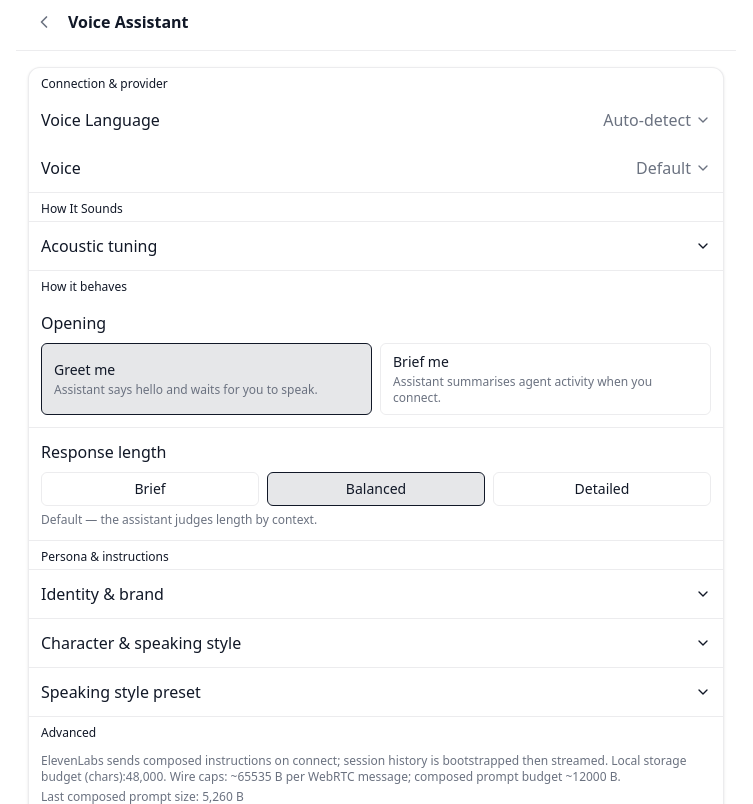
Test case: SettingsPage › shows dynamic voices in picker when fetchVoices returns a list
Click the button "Voice Default". click: (61, 168)
box: [29, 144, 723, 192]
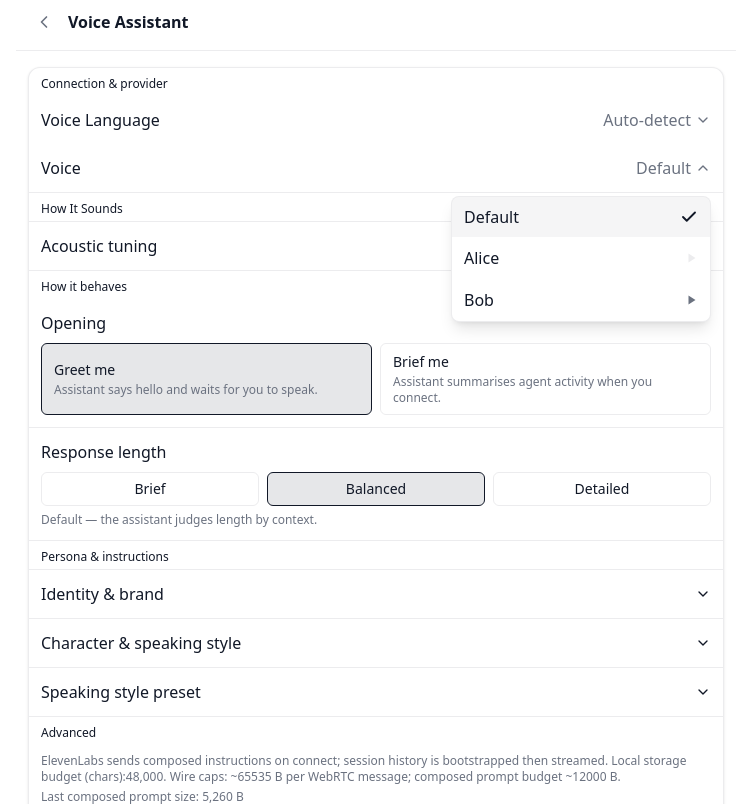
Result: the text "Alice" is shown at [464, 247, 499, 269]
Result: the text "Bob" is shown at [464, 289, 494, 311]
